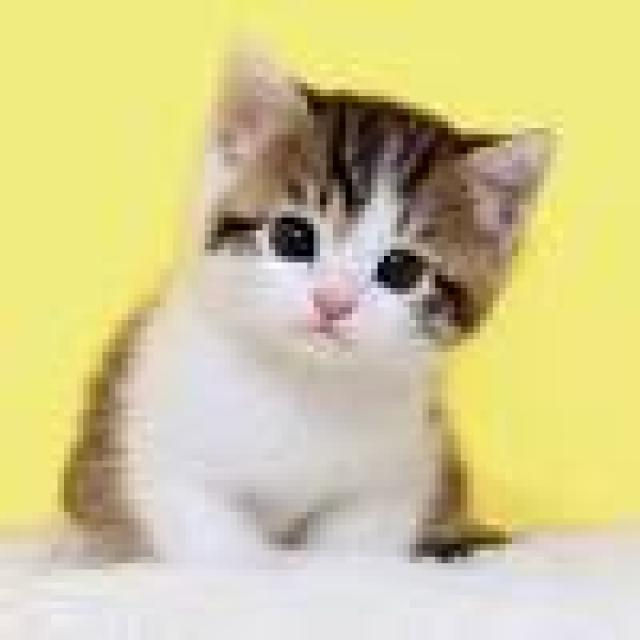cat-face: (179, 34, 584, 441)
